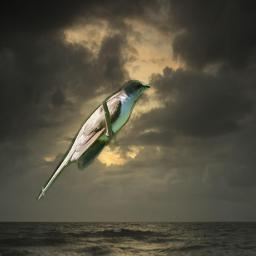Cuckoo: (36, 80, 150, 201)
